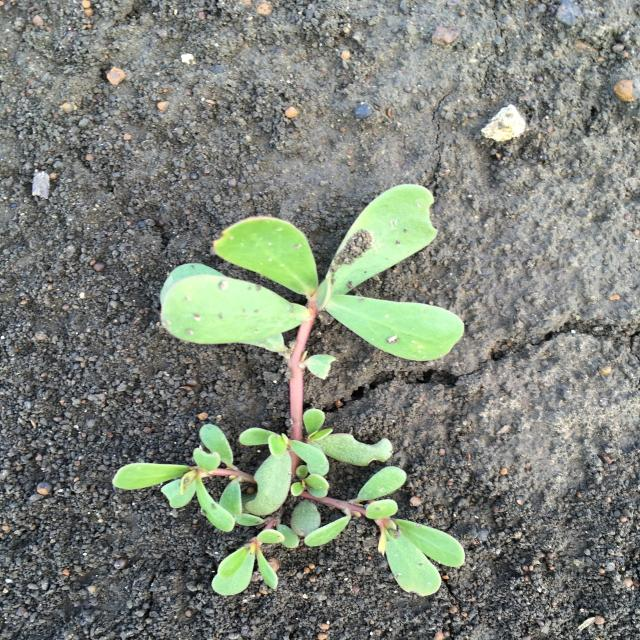Purslane: (113, 184, 465, 596)
